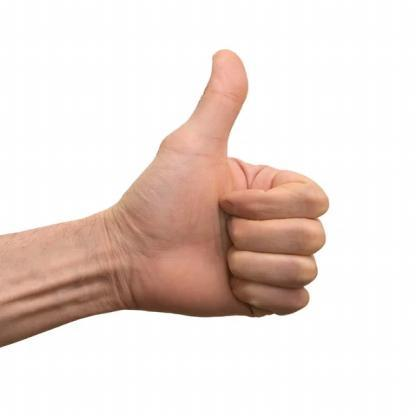thumb_up: (125, 44, 329, 324)
